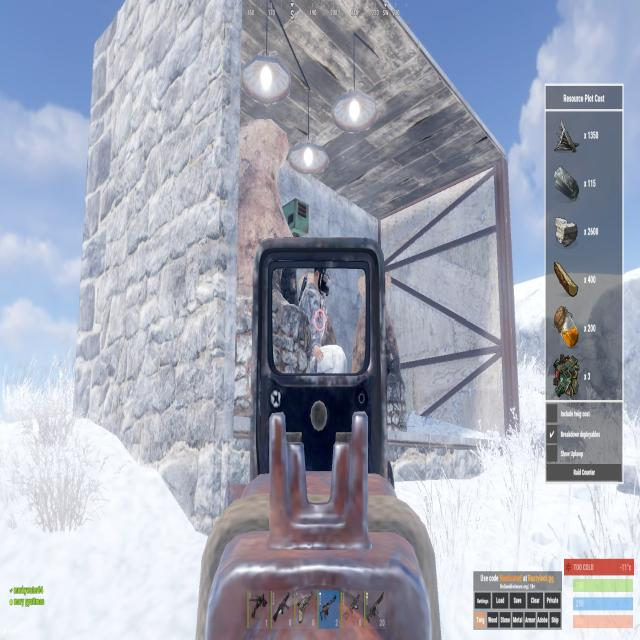Player: (297, 264, 348, 377)
